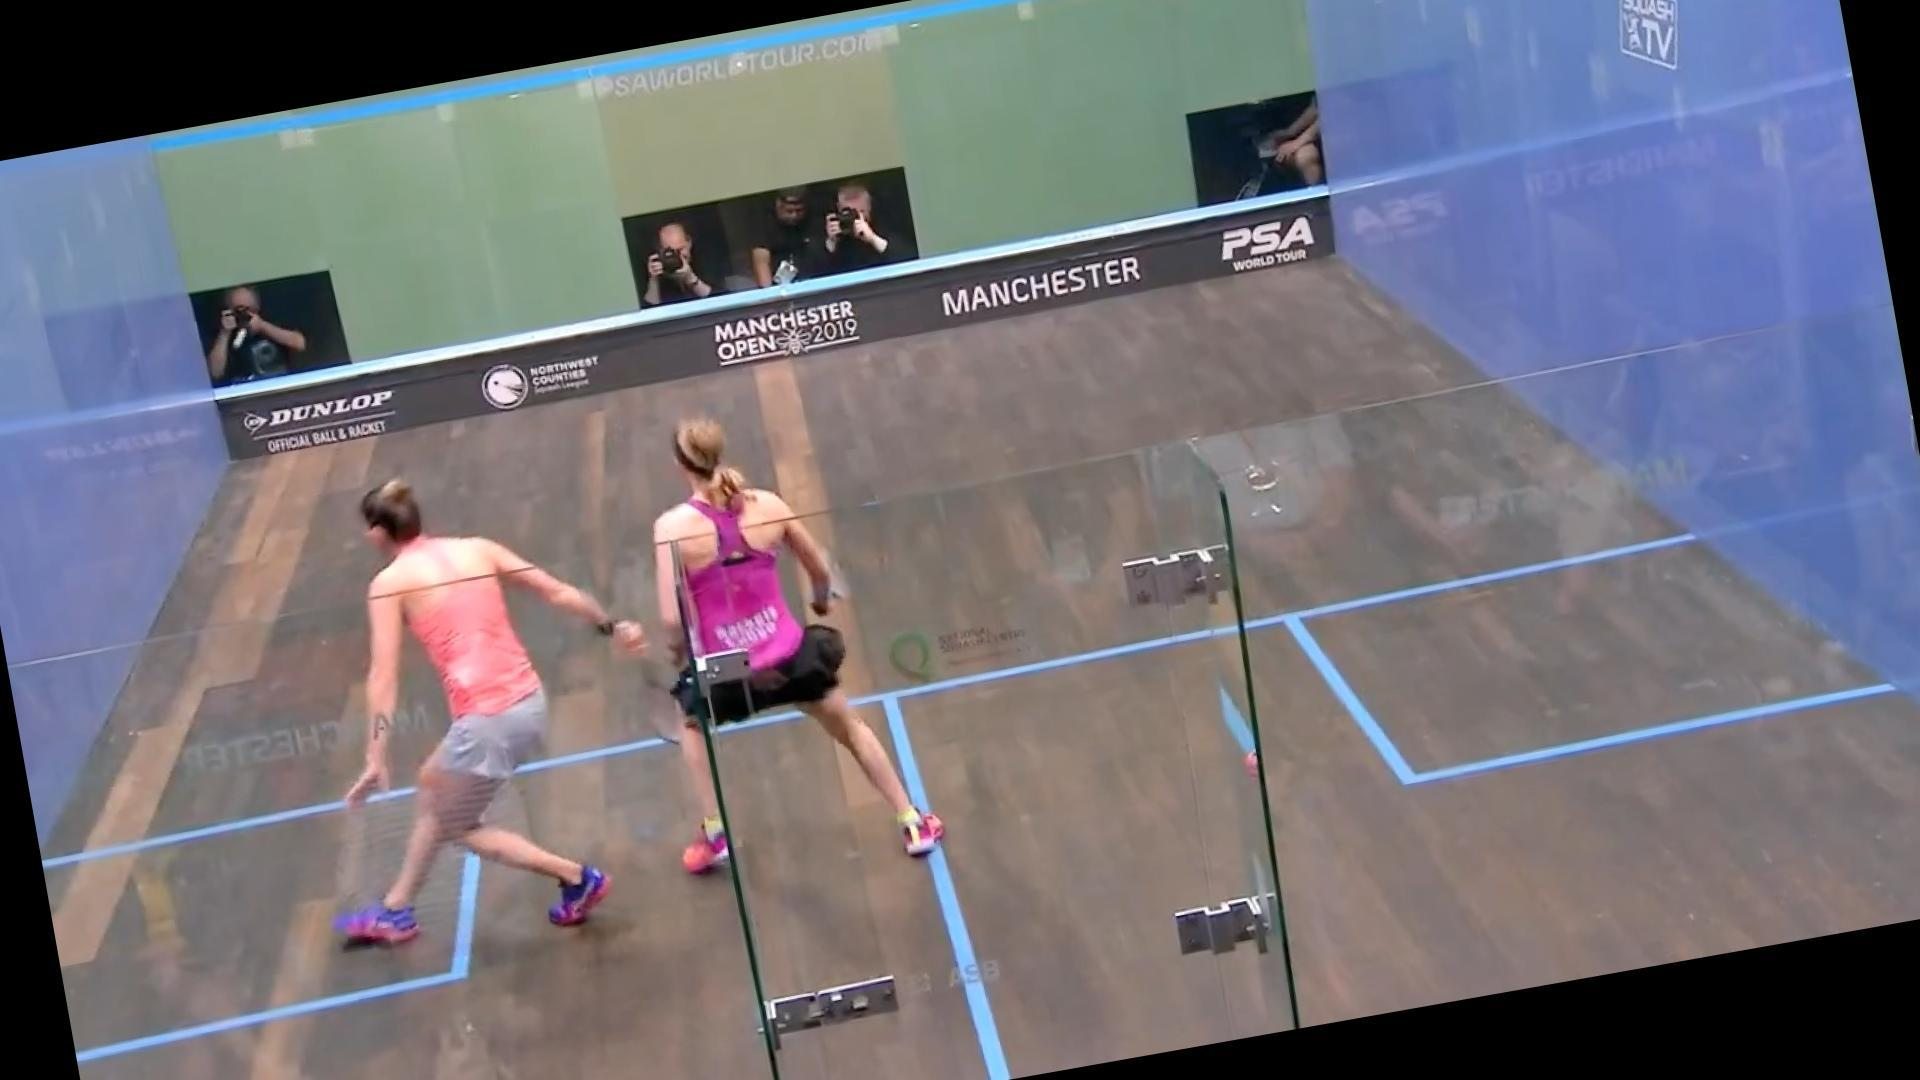Squash-Ball: (216, 315, 266, 360)
